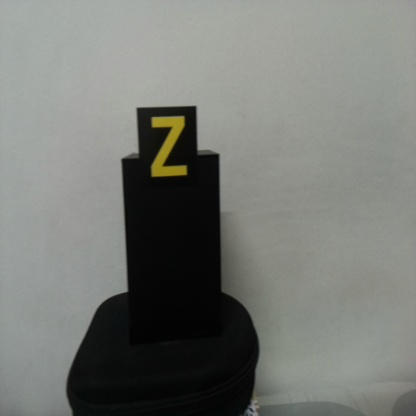id_15: (137, 106, 198, 188)
